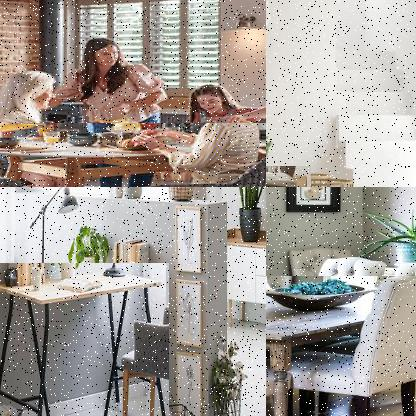table: (0, 263, 170, 415), (266, 276, 415, 415), (0, 123, 265, 186)
